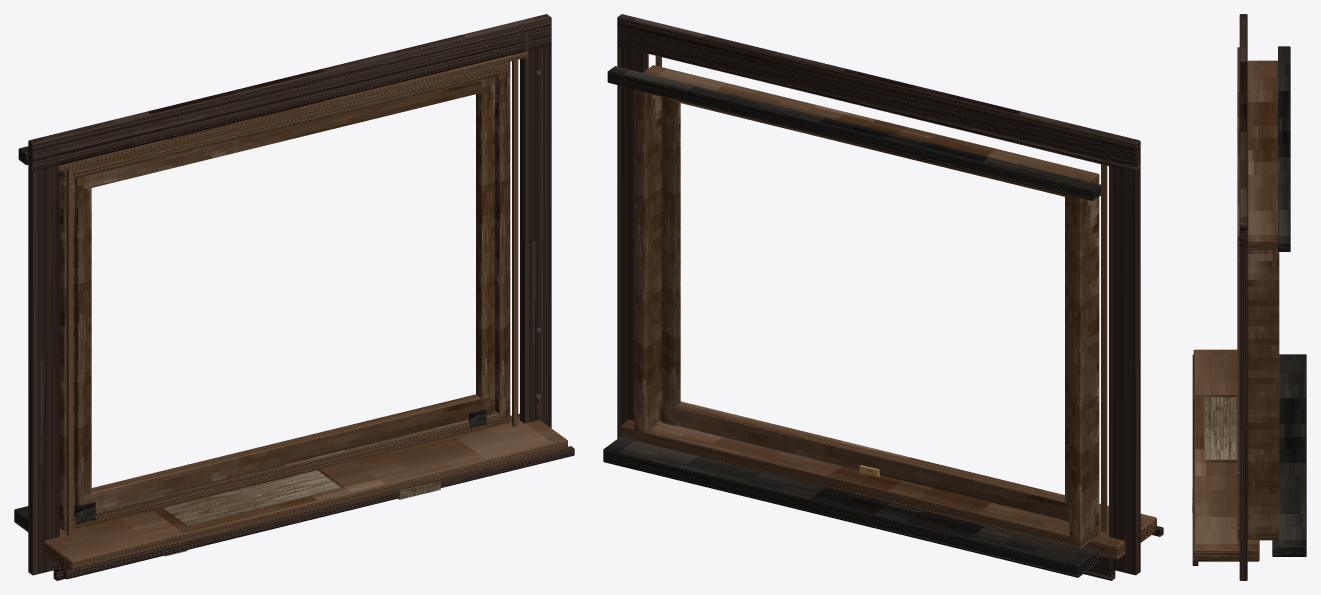
Rendered from window_static.glb.
The picture shows the model from 3 angles, left to right: view 1: azimuth 30°, elevation 25°; view 2: azimuth 150°, elevation 25°; view 3: azimuth 270°, elevation 25°; orthographic projection. The views are drawn at different scales.
Visible parts, largest first — view 1: window_static; view 2: window_static; view 3: window_static.
Part boxes in pixels (x1=…): window_static: x1=14, y1=14, x2=574, y2=580; window_static: x1=603, y1=14, x2=1163, y2=580; window_static: x1=1192, y1=14, x2=1306, y2=580.
Bounding box in the file's own units: 1.88 × 1.54 × 0.433.
7 materials, 7 textured.
